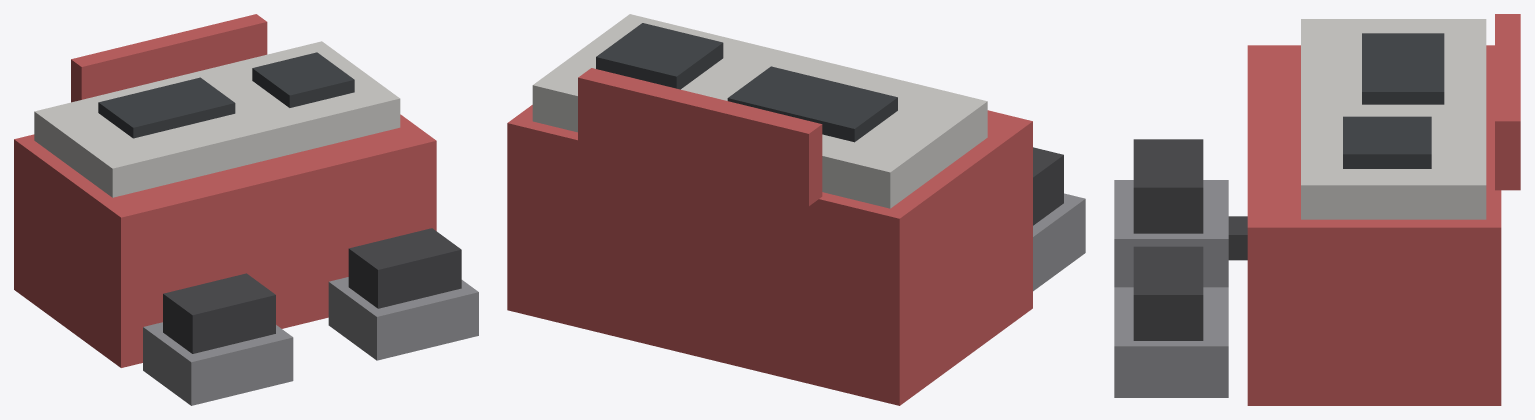
Rendered from desfibrilador.glb.
3 views of the same model, side by side, from view 1: azimuth 30°, elevation 25°; view 2: azimuth 150°, elevation 25°; view 3: azimuth 270°, elevation 25° (orthographic). The views are drawn at different scales.
Visible parts, largest first — view 1: desfibrilador; view 2: desfibrilador; view 3: desfibrilador.
Boxes of the visible parts, x1=… form: desfibrilador: x1=14, y1=14, x2=478, y2=405; desfibrilador: x1=507, y1=14, x2=1085, y2=405; desfibrilador: x1=1114, y1=14, x2=1520, y2=405.
Size of the model in its own units: 0.34 by 0.215 by 0.32.
